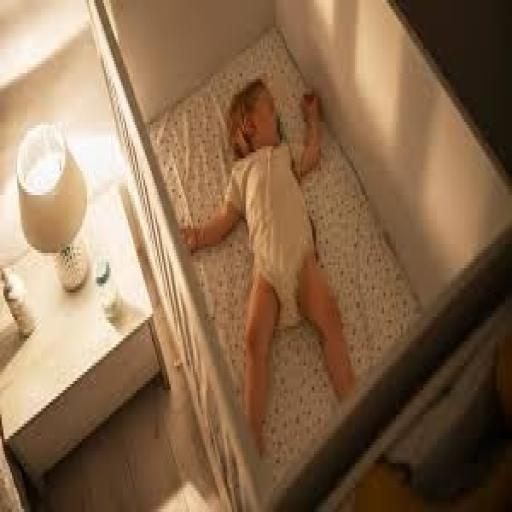baby: (183, 80, 353, 454)
crib: (89, 0, 511, 508)
